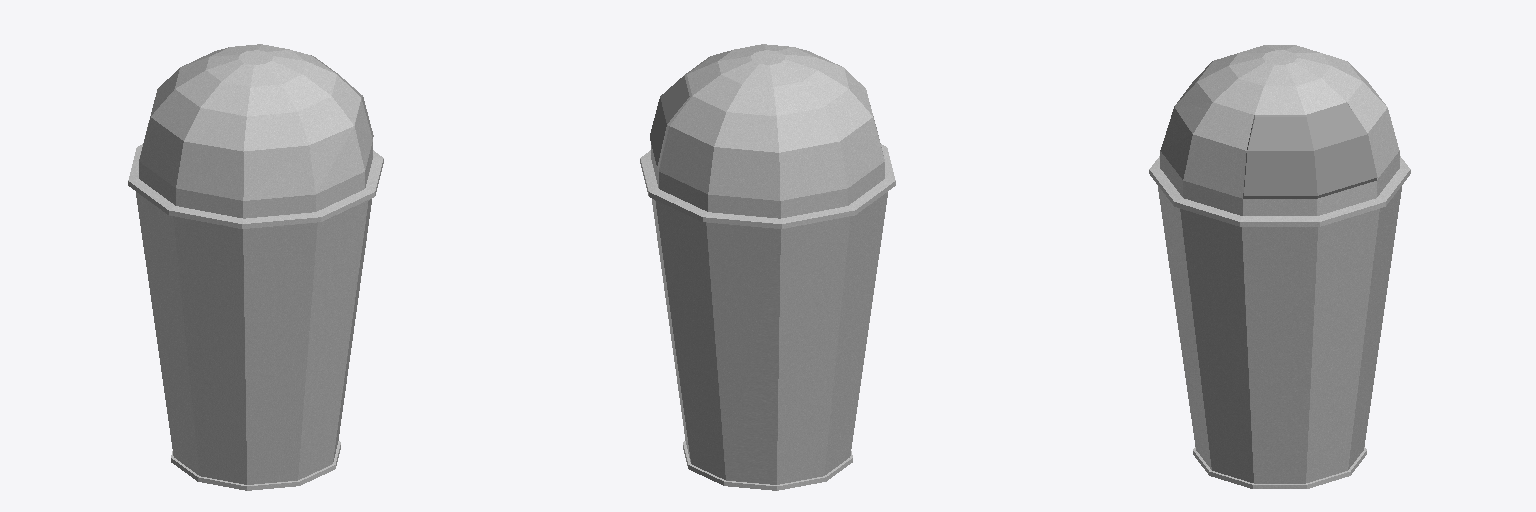
The picture shows the model from 3 angles: view 1: azimuth 30°, elevation 25°; view 2: azimuth 150°, elevation 25°; view 3: azimuth 270°, elevation 25°; orthographic projection.
Visible parts, largest first — view 1: Cylinder; view 2: Cylinder, Cylinder.001_Cylinder.002; view 3: Cylinder, Cylinder.001_Cylinder.002.
Part boxes in pixels (left/top/right/bottom): Cylinder: left=128, top=44, right=383, bottom=490; Cylinder: left=640, top=44, right=895, bottom=490; Cylinder.001_Cylinder.002: left=650, top=56, right=710, bottom=170; Cylinder: left=1149, top=45, right=1410, bottom=488; Cylinder.001_Cylinder.002: left=1243, top=102, right=1377, bottom=198.
Size of the model in its own units: 0.2486 by 0.4382 by 0.2614.
2 materials, 1 textured.